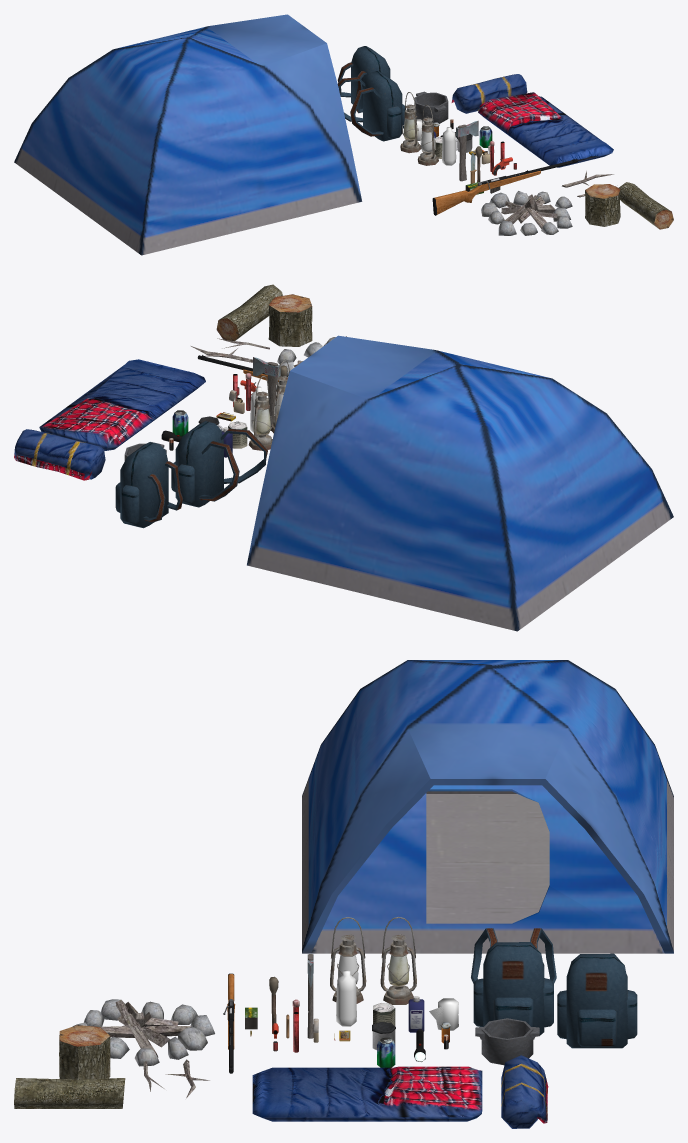
The model's file is survival-all.glb.
The picture shows the model from 3 angles, top to bottom: view 1: azimuth 30°, elevation 25°; view 2: azimuth 150°, elevation 25°; view 3: azimuth 270°, elevation 25°; orthographic projection. The views are drawn at different scales.
Parts seen in each view (by area): view 1: Shelter_tent, sleeping_bag, Backpack, bonfire, sleeping_bag_01, Trunk, Backpack.001, hunting_rifle, Trunk_01, Casserole, Farol, Axe (+2 smaller); view 2: Shelter_tent, sleeping_bag, Backpack, Backpack.001, sleeping_bag_01, Trunk, Trunk_01, Farol, Axe, bonfire; view 3: Shelter_tent, sleeping_bag, Backpack, Backpack.001, bonfire, Trunk_01, sleeping_bag_01, Trunk, Casserole, Farol, Water, Farol_G (+1 smaller).
Boxes of the visible parts, x1=… form: Shelter_tent: x1=14, y1=14, x2=362, y2=255; sleeping_bag: x1=478, y1=92, x2=613, y2=167; Backpack: x1=337, y1=71, x2=405, y2=141; bonfire: x1=481, y1=191, x2=572, y2=235; sleeping_bag_01: x1=451, y1=74, x2=527, y2=113; Trunk: x1=585, y1=184, x2=620, y2=226; Backpack.001: x1=337, y1=46, x2=390, y2=113; hunting_rifle: x1=432, y1=159, x2=577, y2=215; Trunk_01: x1=619, y1=182, x2=673, y2=229; Casserole: x1=414, y1=91, x2=448, y2=123; Farol: x1=400, y1=104, x2=420, y2=153; Axe: x1=456, y1=120, x2=478, y2=181; Shelter_tent: x1=247, y1=335, x2=673, y2=631; sleeping_bag: x1=39, y1=359, x2=205, y2=450; Backpack: x1=171, y1=421, x2=267, y2=507; Backpack.001: x1=115, y1=442, x2=182, y2=528; sleeping_bag_01: x1=14, y1=429, x2=105, y2=480; Trunk: x1=268, y1=294, x2=312, y2=346; Trunk_01: x1=216, y1=284, x2=282, y2=340; Farol: x1=248, y1=391, x2=272, y2=450; Axe: x1=253, y1=357, x2=280, y2=430; bonfire: x1=277, y1=336, x2=346, y2=375; Shelter_tent: x1=302, y1=660, x2=673, y2=953; sleeping_bag: x1=252, y1=1066, x2=482, y2=1121; Backpack: x1=471, y1=928, x2=556, y2=1035; Backpack.001: x1=557, y1=953, x2=637, y2=1048; bonfire: x1=73, y1=999, x2=214, y2=1066; Trunk_01: x1=14, y1=1078, x2=125, y2=1108; sleeping_bag_01: x1=501, y1=1055, x2=548, y2=1128; Trunk: x1=59, y1=1025, x2=110, y2=1079; Casserole: x1=475, y1=1018, x2=539, y2=1065; Farol: x1=380, y1=934, x2=416, y2=1004; Water: x1=336, y1=970, x2=356, y2=1026; Farol_G: x1=330, y1=934, x2=366, y2=1003.
Bounding box in the file's own units: 6.59 × 2.1 × 5.62.
Materials: 27 (24 with a texture image).
